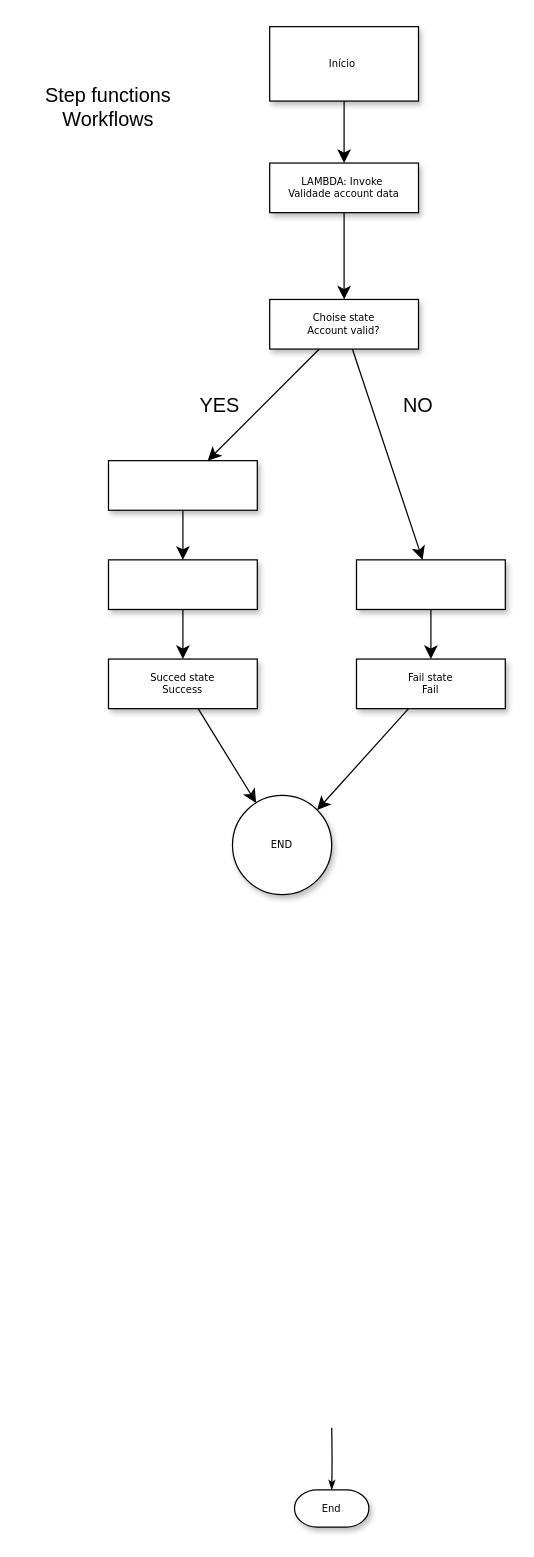
This 534x1557 diagram has some shape labels left out. The centre of each missing label's shape, as x and y in pixels:
"DynamoDB: Putltem" belongs at point 183,486.
"SNS: Publish Send email fail" belongs at point 431,586.
"SNS: Publish Send Mail success" belongs at point 183,586.
